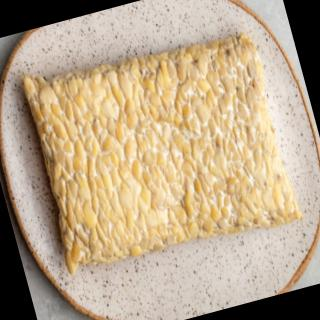Tempe: (16, 15, 308, 288)
